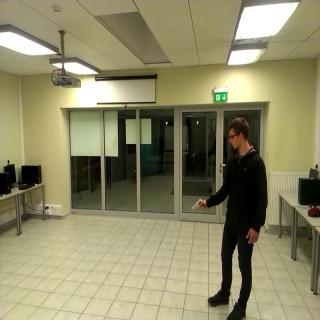gun: (191, 195, 209, 213)
